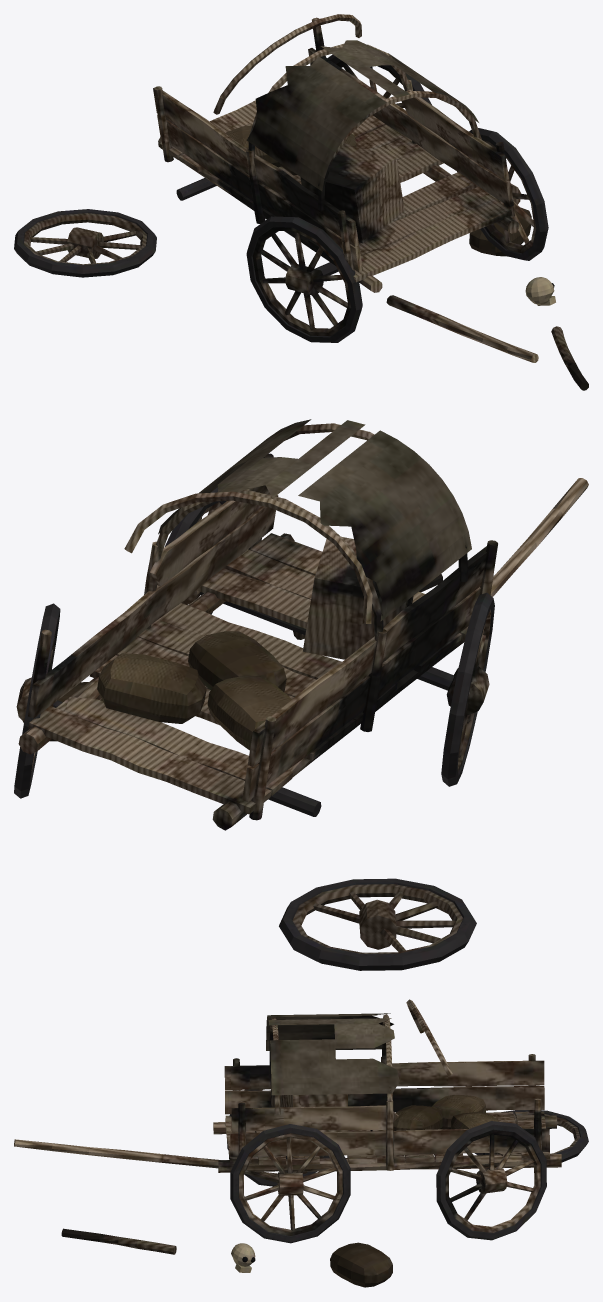
File: burned_cart.glb
3 renders of one model, top to bottom at view 1: azimuth 30°, elevation 25°; view 2: azimuth 150°, elevation 25°; view 3: azimuth 270°, elevation 25°, orthographic. The views are drawn at different scales.
Visible parts, largest first — view 1: burned_cart; view 2: burned_cart; view 3: burned_cart.
Part boxes in pixels (x1,y1,x2,y2): burned_cart: (14,14,588,390); burned_cart: (14,419,588,970); burned_cart: (14,999,588,1287).
Size of the model in its own units: 3.45 by 1.95 by 4.86.
Materials: 1 (1 with a texture image).
